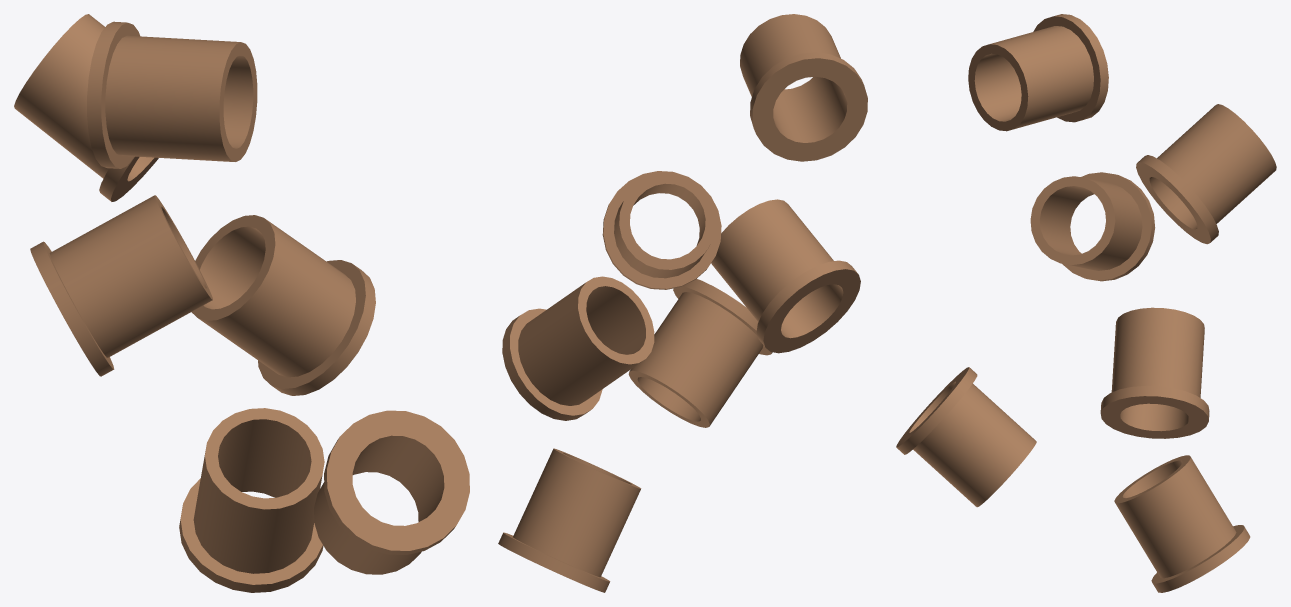
The model's file is HID-CNX-005_anim.glb.
3 views of the same model, side by side, from view 1: azimuth 30°, elevation 25°; view 2: azimuth 150°, elevation 25°; view 3: azimuth 270°, elevation 25° (orthographic). The views are drawn at different scales.
Parts seen in each view (by area): view 1: HID-CNX-005_anim2, HID-CNX-005_anim0, HID-CNX-005_anim5, HID-CNX-005_anim3, HID-CNX-005_anim1, HID-CNX-005_anim4; view 2: HID-CNX-005_anim2, HID-CNX-005_anim5, HID-CNX-005_anim3, HID-CNX-005_anim1, HID-CNX-005_anim0, HID-CNX-005_anim4; view 3: HID-CNX-005_anim5, HID-CNX-005_anim2, HID-CNX-005_anim4, HID-CNX-005_anim0, HID-CNX-005_anim1, HID-CNX-005_anim3.
Boxes of the visible parts, x1,y1,x2,y2 form: HID-CNX-005_anim2: (191,215,375,395); HID-CNX-005_anim0: (179,408,324,592); HID-CNX-005_anim5: (87,21,257,168); HID-CNX-005_anim3: (30,195,212,376); HID-CNX-005_anim1: (314,410,469,574); HID-CNX-005_anim4: (14,14,158,201); HID-CNX-005_anim2: (502,276,654,420); HID-CNX-005_anim5: (740,14,867,161); HID-CNX-005_anim3: (711,199,860,353); HID-CNX-005_anim1: (628,279,772,427); HID-CNX-005_anim0: (498,448,641,592); HID-CNX-005_anim4: (602,171,721,289); HID-CNX-005_anim5: (968,14,1108,131); HID-CNX-005_anim2: (1100,307,1209,438); HID-CNX-005_anim4: (1136,104,1276,244); HID-CNX-005_anim0: (1114,455,1250,592); HID-CNX-005_anim1: (896,367,1036,507); HID-CNX-005_anim3: (1030,172,1155,281).
Size of the model in its own units: 0.1131 by 0.1937 by 0.1365.
